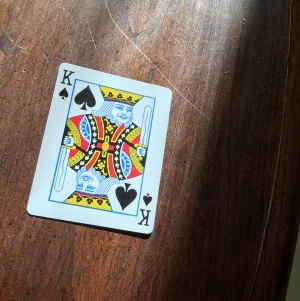card: (27, 63, 172, 238)
